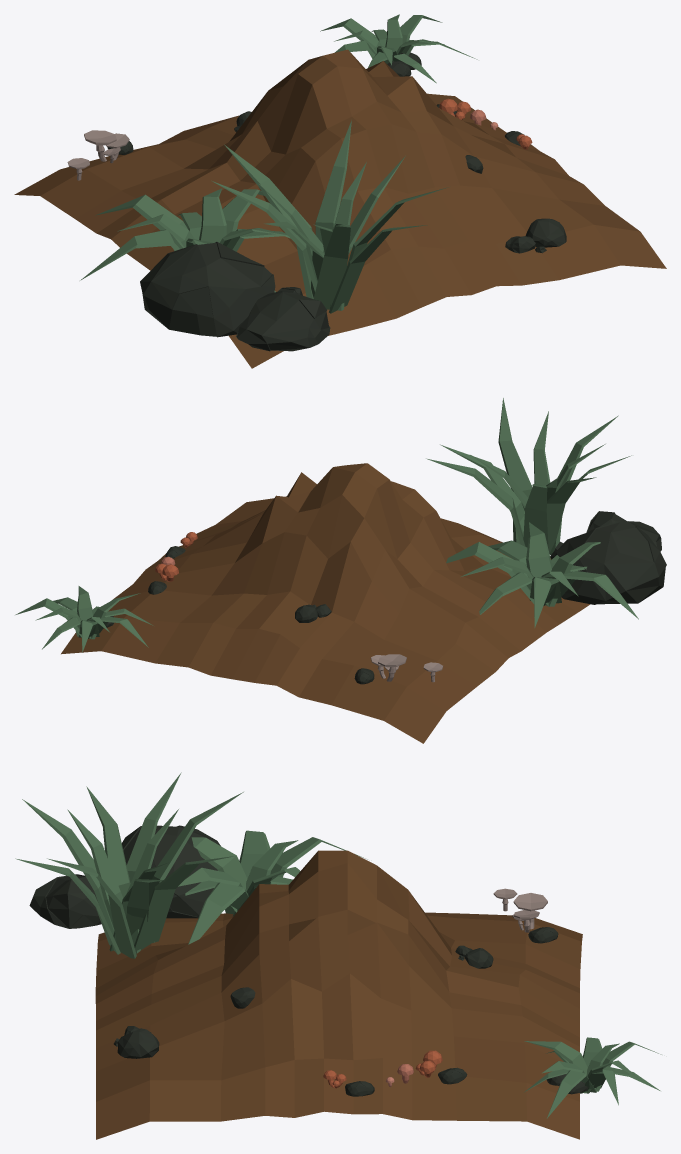
The model's file is Duwende-Punso.fbx.
3 views of the same model, one above another, from view 1: azimuth 30°, elevation 25°; view 2: azimuth 150°, elevation 25°; view 3: azimuth 270°, elevation 25° (orthographic). The views are drawn at different scales.
Parts seen in each view (by area): view 1: Grass_bush_low_01; view 2: Grass_bush_low_01; view 3: Grass_bush_low_01.
Boxes of the visible parts, bbox=[...] form: Grass_bush_low_01: bbox=[14, 14, 666, 368]; Grass_bush_low_01: bbox=[15, 398, 666, 743]; Grass_bush_low_01: bbox=[15, 772, 661, 1139].
Size of the model in its own units: 784 by 245 by 807.
